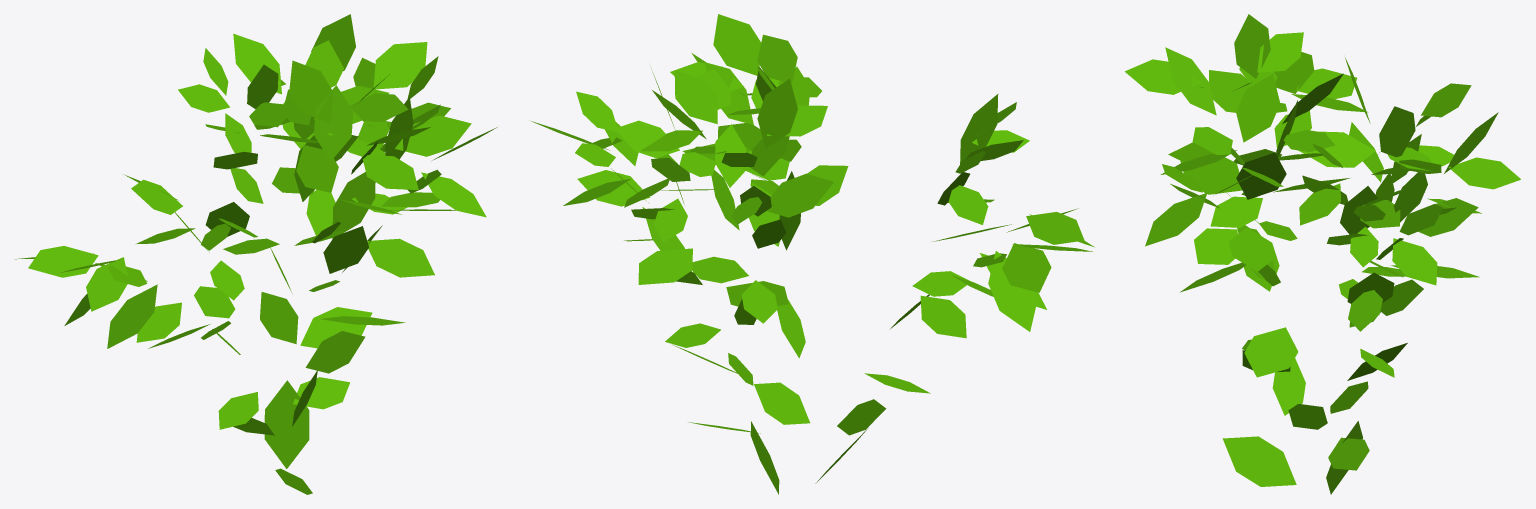
File: TREE_LEAF_2.fbx
3 renders of one model, left to right at view 1: azimuth 30°, elevation 25°; view 2: azimuth 150°, elevation 25°; view 3: azimuth 270°, elevation 25°, orthographic. The views are drawn at different scales.
Visible parts, largest first — view 1: leaves.005; view 2: leaves.005; view 3: leaves.005.
Boxes of the visible parts, x1=… form: leaves.005: x1=15, y1=14, x2=497, y2=494; leaves.005: x1=531, y1=14, x2=1094, y2=494; leaves.005: x1=1124, y1=14, x2=1520, y2=494.
Size of the model in its own units: 374 by 313 by 258.
